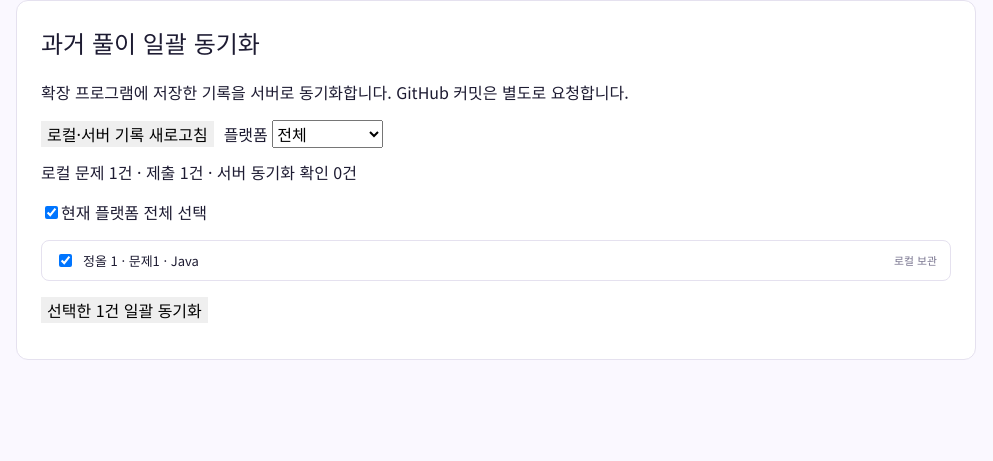
does not ACK unexpected server acceptance IDs
Click the button "선택한 1건 일괄 동기화" at [124, 310], box [41,297,208,323]
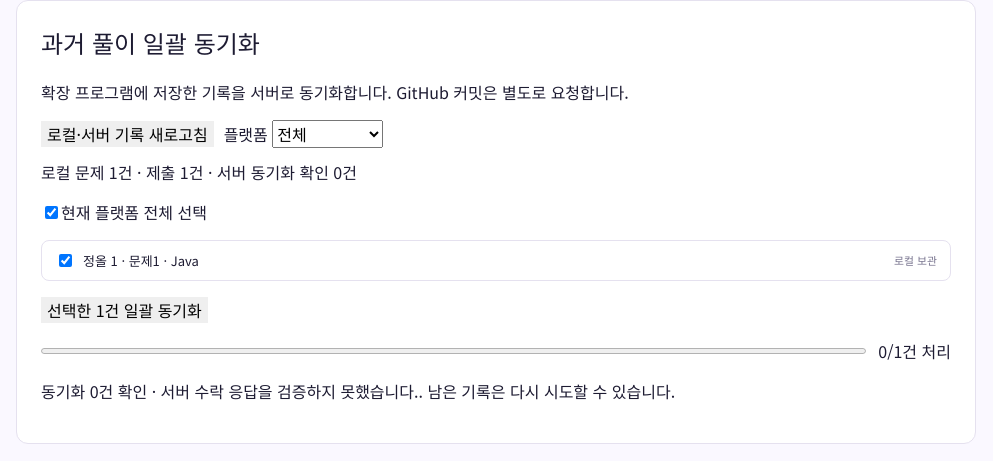
Expected: the text "동기화 0건 확인 · 서버 수락 응답을 검증하지 못했습니다.. 남은 기록은 다시 시도할 수 있습니다." is shown, [41,379,675,403]
